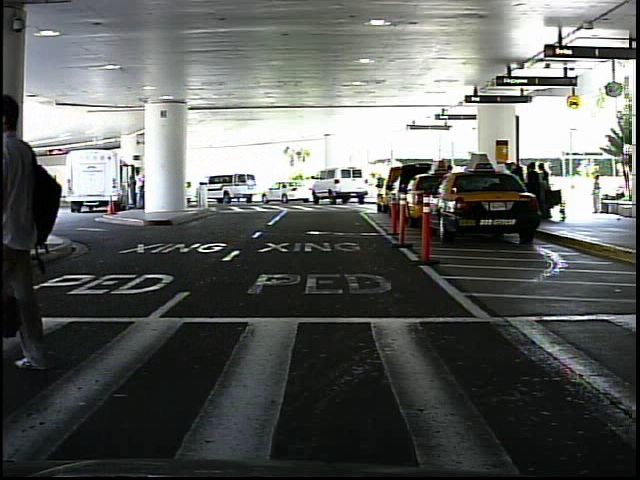person: (48, 171, 66, 221), (588, 172, 607, 218), (374, 172, 387, 198)
